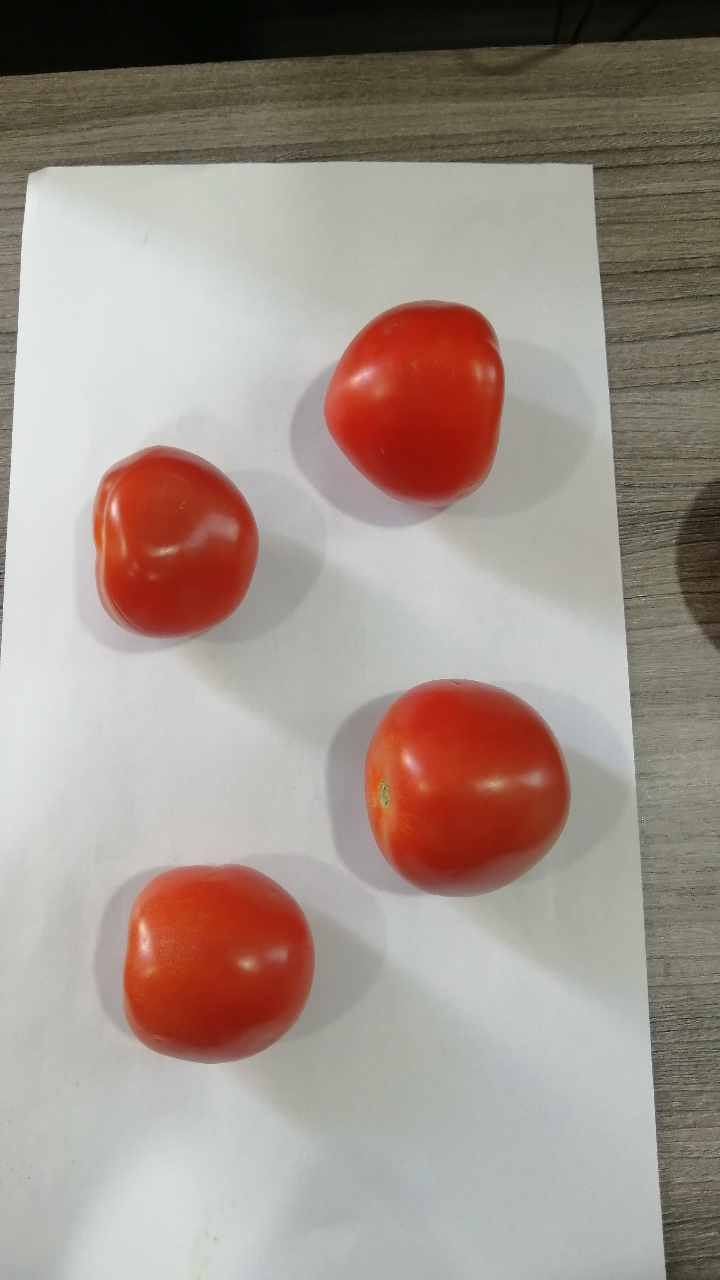tomateRojo: (354, 662, 604, 919), (298, 282, 535, 528), (98, 843, 323, 1082), (68, 442, 289, 643)
